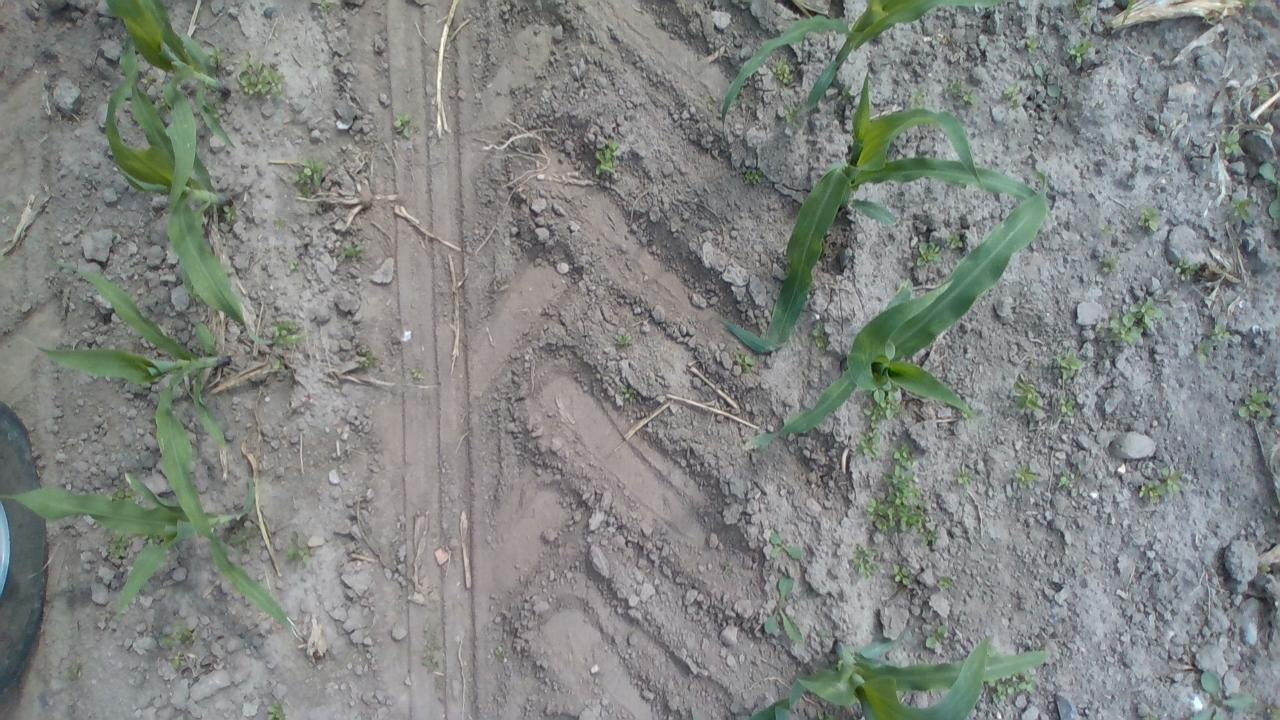Maize: (11, 264, 297, 644), (716, 69, 1052, 358), (738, 165, 1052, 453), (102, 26, 308, 348), (718, 2, 1004, 148), (0, 468, 259, 622), (749, 628, 1056, 720), (100, 0, 238, 150)
Weeds: (868, 444, 942, 548), (1094, 296, 1166, 350), (1184, 668, 1256, 720), (859, 388, 902, 458), (764, 576, 808, 644), (237, 55, 282, 101), (157, 616, 195, 668), (1136, 466, 1185, 506), (982, 669, 1040, 702), (418, 623, 449, 682), (1012, 370, 1050, 413), (1195, 326, 1236, 364), (1032, 64, 1068, 104), (940, 74, 981, 108), (1236, 388, 1274, 424), (1052, 346, 1089, 382), (1258, 161, 1280, 220), (768, 531, 805, 564), (847, 545, 882, 577), (592, 141, 620, 179), (266, 321, 304, 349), (284, 532, 310, 568), (1092, 248, 1124, 276), (339, 241, 372, 268), (1012, 461, 1044, 488), (916, 239, 947, 266), (922, 622, 951, 650), (298, 158, 326, 184), (1218, 130, 1242, 159), (1174, 253, 1198, 280), (888, 560, 911, 586), (1139, 206, 1163, 230), (1227, 198, 1251, 222), (359, 346, 383, 370), (738, 165, 764, 187), (205, 46, 228, 70), (948, 466, 975, 486), (810, 320, 825, 356), (393, 115, 416, 138), (1068, 41, 1092, 61), (1000, 87, 1020, 111), (264, 700, 287, 720), (1026, 34, 1046, 56), (771, 61, 794, 80), (786, 105, 804, 129), (1256, 82, 1273, 105), (909, 88, 926, 110), (314, 2, 332, 20), (947, 232, 965, 250), (1099, 220, 1118, 237), (1056, 473, 1074, 490), (1060, 398, 1078, 415), (737, 353, 754, 368), (938, 576, 955, 590), (613, 334, 632, 346), (617, 385, 632, 400), (411, 369, 424, 378)
